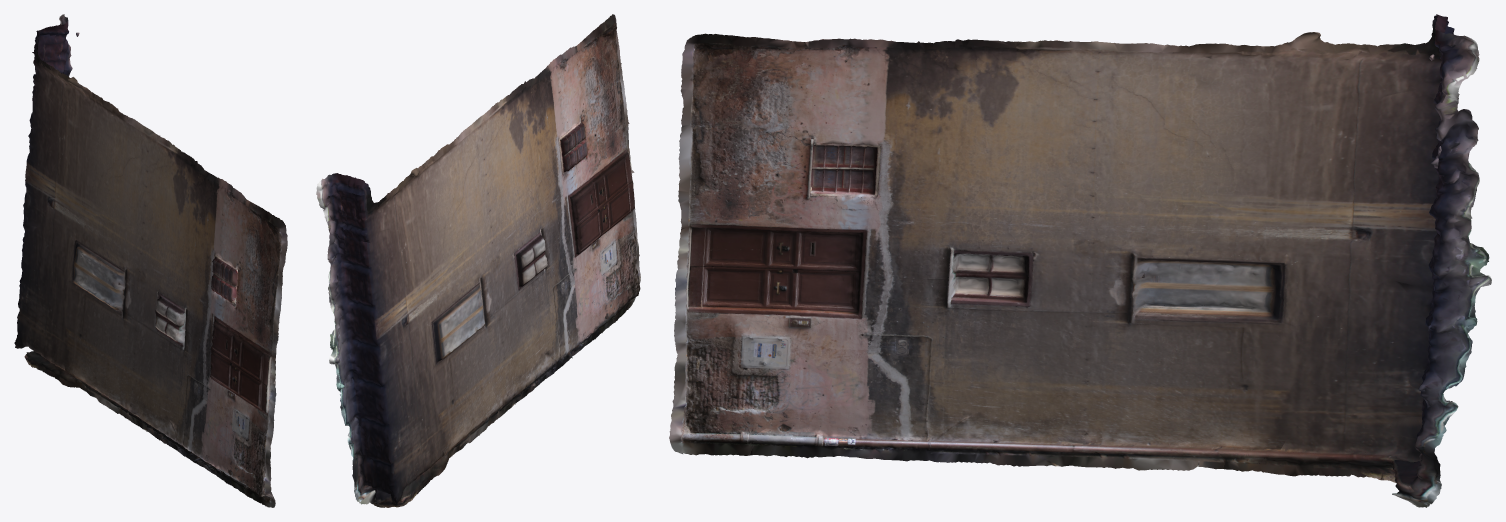
3 views of the same model, side by side, from view 1: azimuth 30°, elevation 25°; view 2: azimuth 150°, elevation 25°; view 3: azimuth 270°, elevation 25° (orthographic). The views are drawn at different scales.
Parts seen in each view (by area): view 1: Object_1; view 2: Object_1; view 3: Object_1.
Part boxes in pixels (x1,y1,x2,y2): Object_1: [14, 14, 287, 507]; Object_1: [316, 14, 640, 507]; Object_1: [669, 14, 1491, 507].
Size of the model in its own units: 6.73 by 47.29 by 31.54.
1 material, 1 textured.
